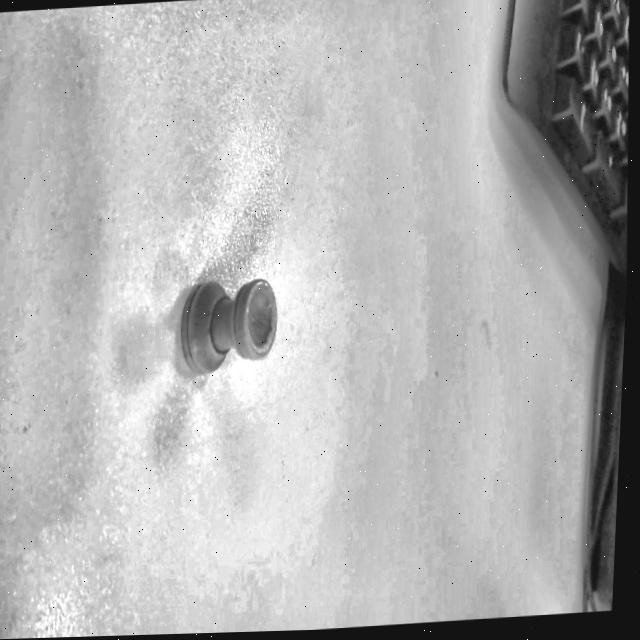white-rook: (150, 222, 299, 434)
